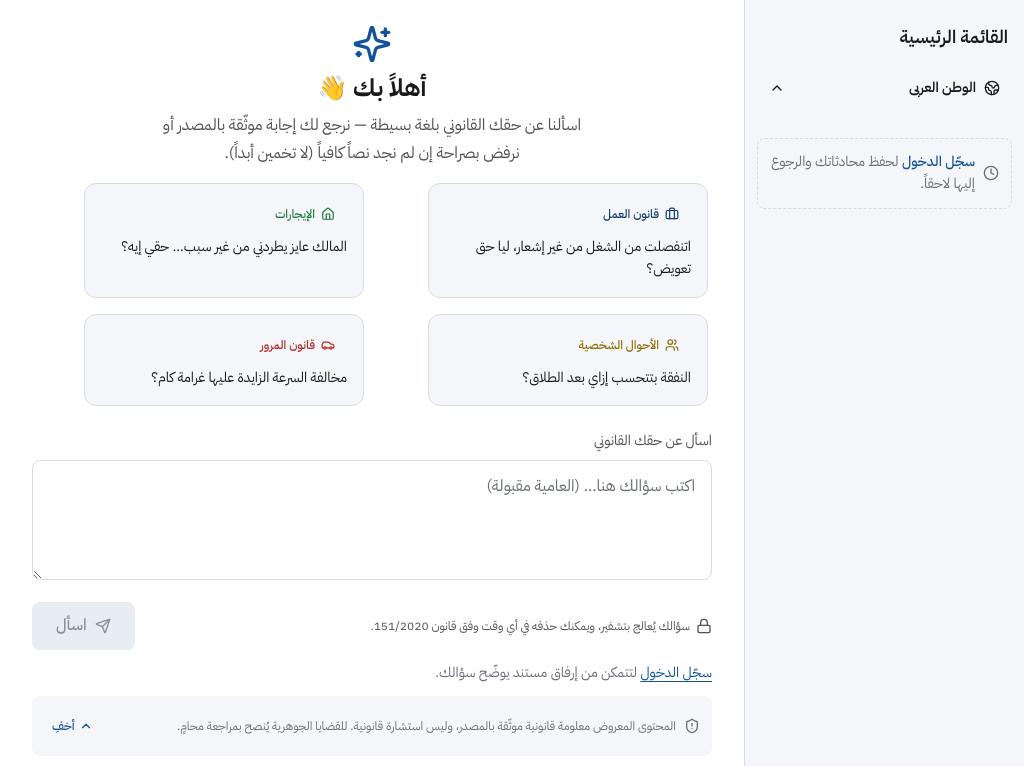
Test: ChatScreen › يزيل فقاعة الخطأ القديمة عند إرسال سؤال جديد (لا بقاء لزر «إعادة المحاولة» قديم)
The image size is (1024, 766).
# سؤال أول يفشل الاتصال فيه
Type "سؤال أول فاشل" into the text box labelled "اسأل عن حقك القانوني" at (372,520), box top-left (32, 460), bottom-right (712, 580)
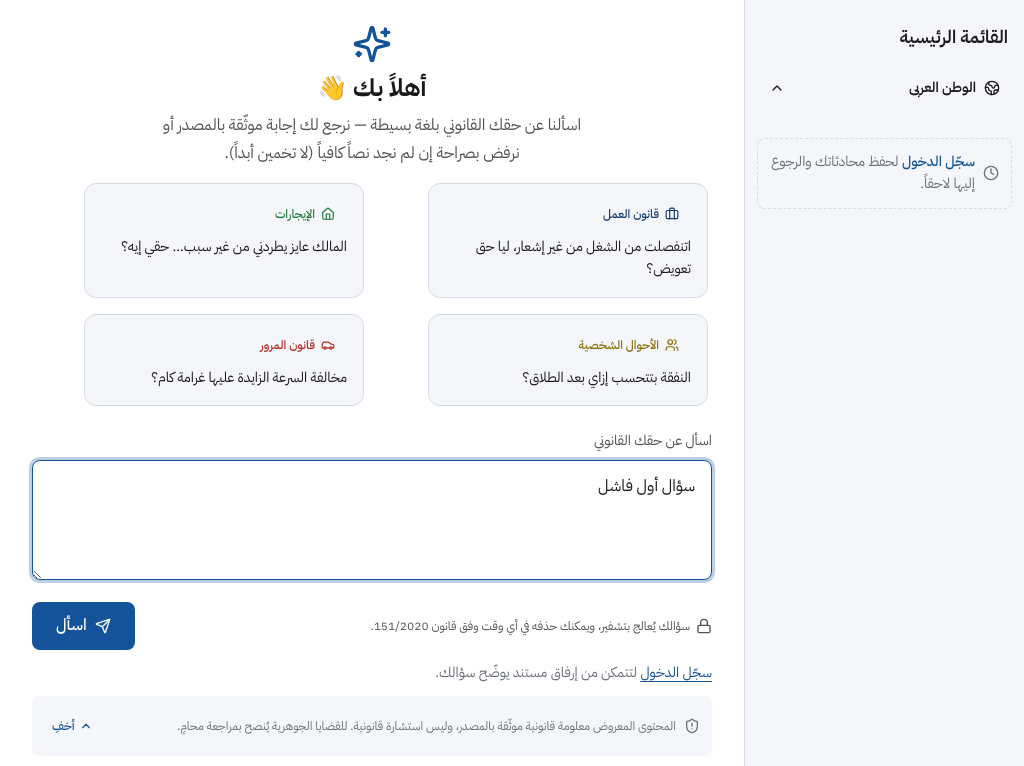
Click the button with aria-label "إرسال السؤال" at (83,626), box top-left (32, 602), bottom-right (135, 650)
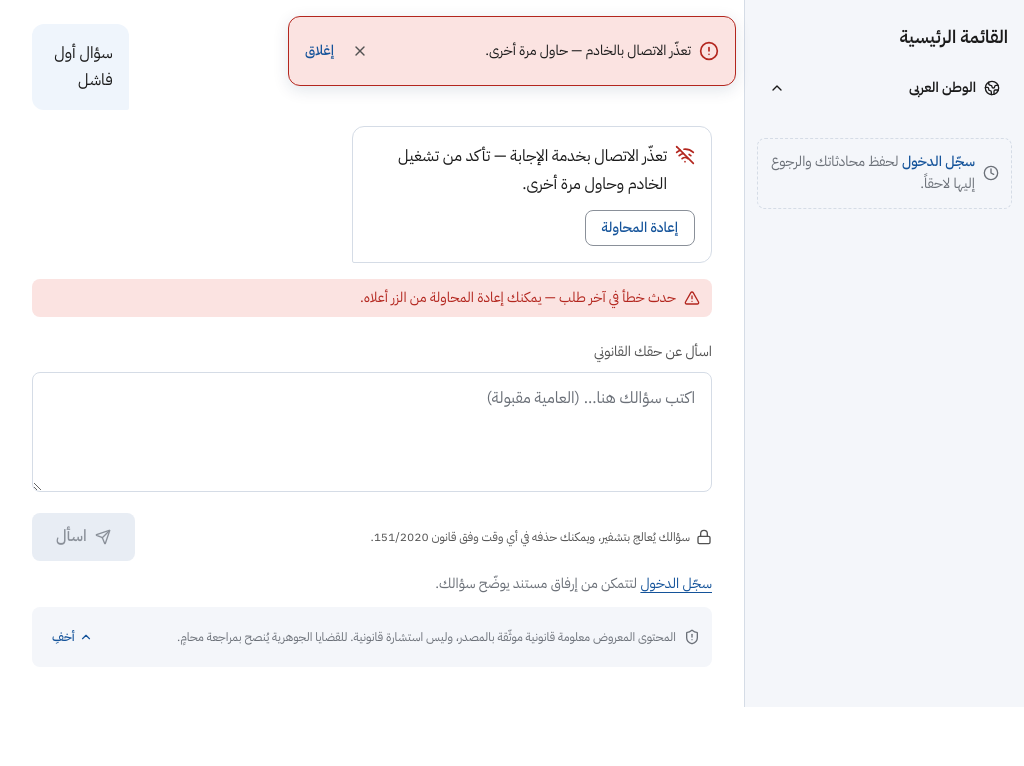
Result: the button "إعادة المحاولة" is shown at top-left (584, 210), bottom-right (695, 246)
# سؤال جديد ناجح — يجب أن تختفي فقاعة الخطأ القديمة من الخيط
Type "سؤال ثانٍ ناجح" into the text box labelled "اسأل عن حقك القانوني" at (372,432), box top-left (32, 372), bottom-right (712, 492)
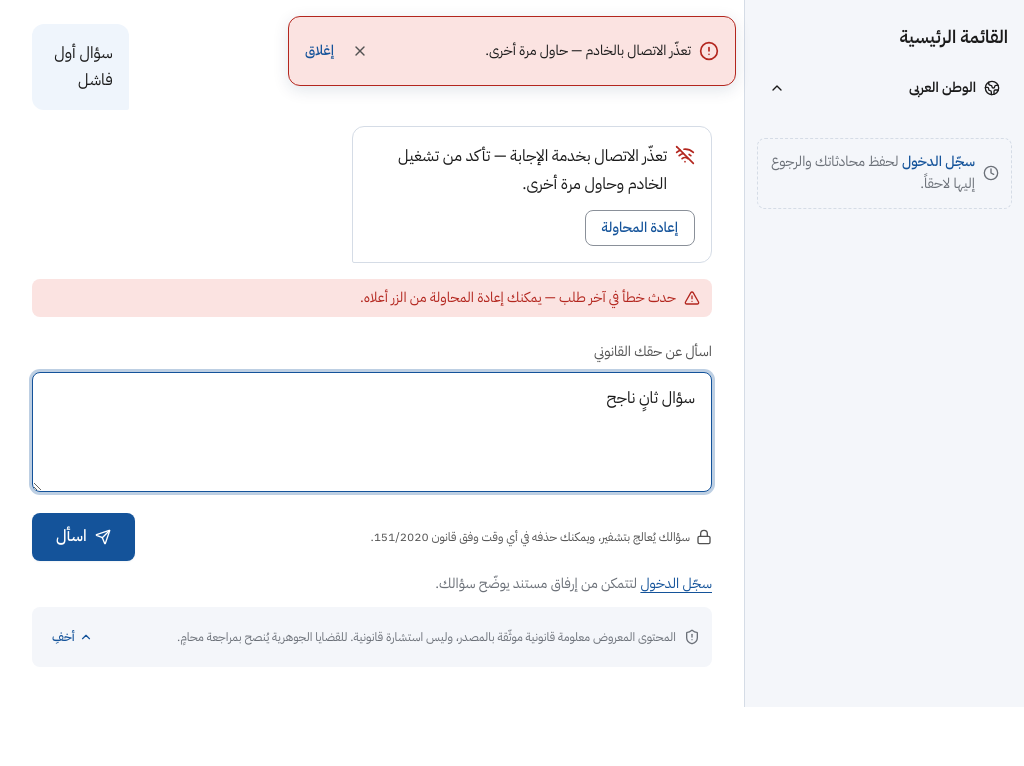
Click the button with aria-label "إرسال السؤال" at (83,537), box top-left (32, 513), bottom-right (135, 561)
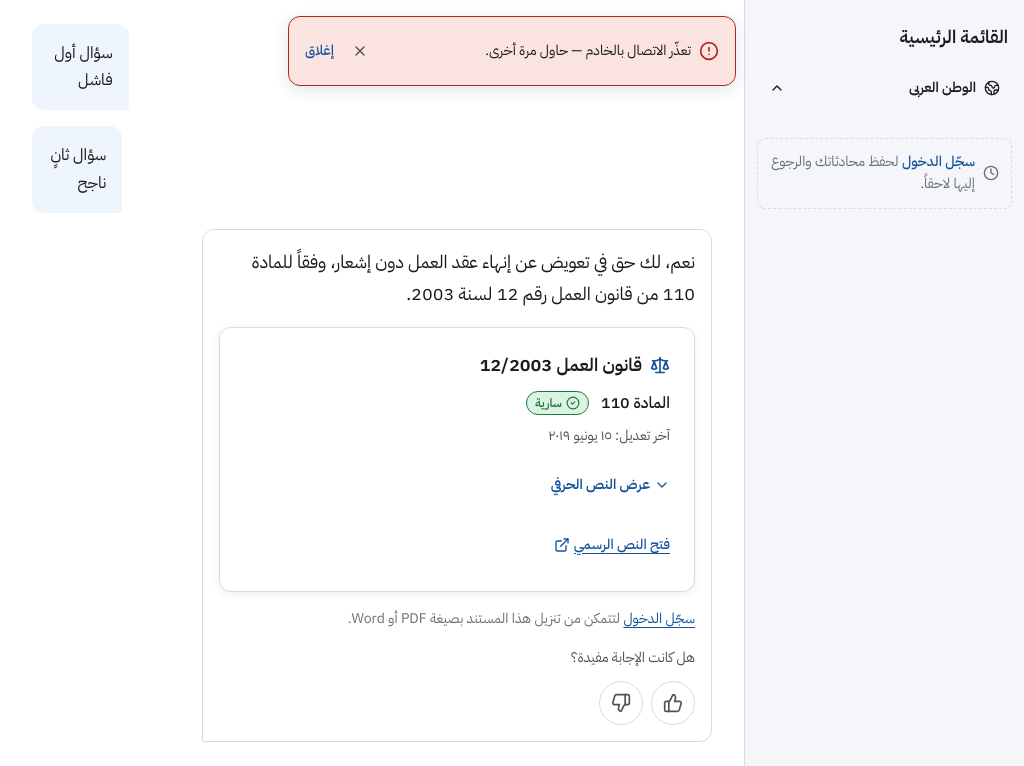
Result: the text "نعم، لك حق في تعويض عن إنهاء عقد العمل دون إشعار، وفقاً للمادة 110 من قانون العمل رقم 12 لسنة 2003." is shown at top-left (252, 248), bottom-right (695, 307)
Result: the text "تعذّر الاتصال بخدمة الإجابة" is gone
Result: the button "إعادة المحاولة" is gone
